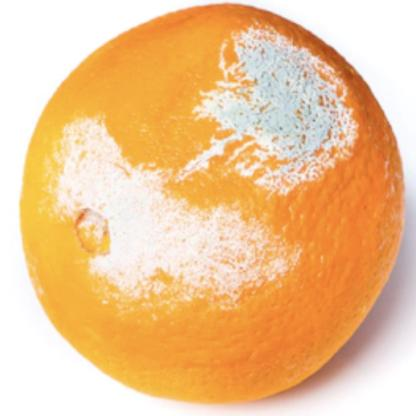rotten: (19, 5, 403, 406)
